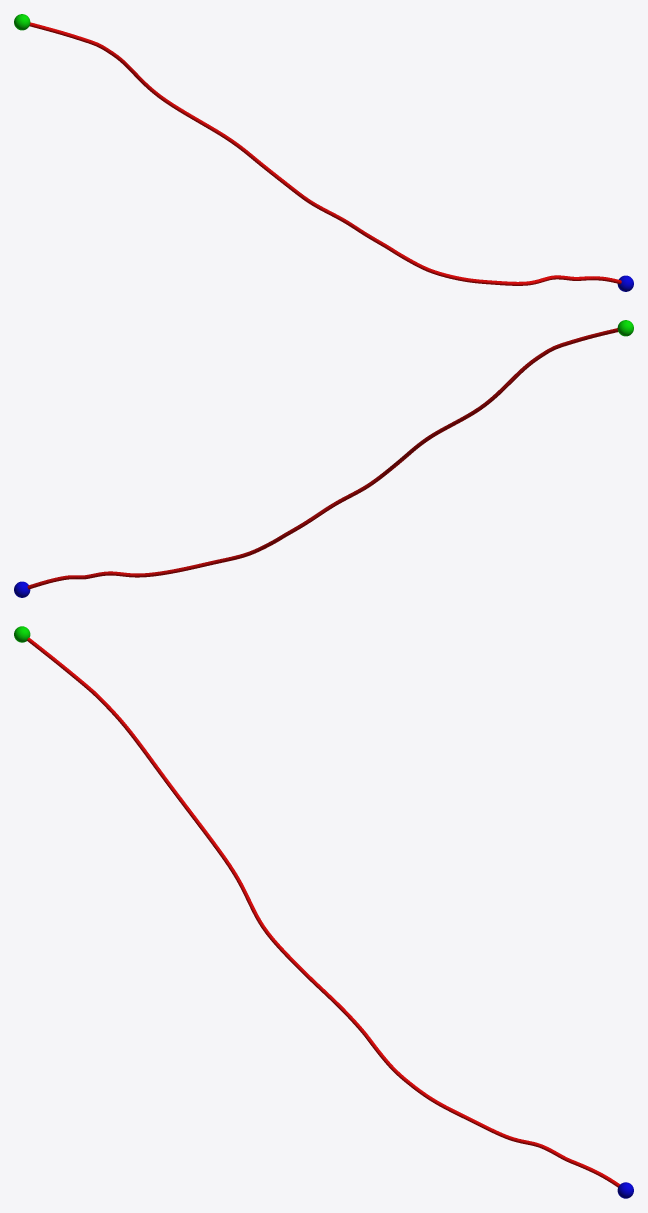
File: paths.obj
3 renders of one model, top to bottom at view 1: azimuth 30°, elevation 25°; view 2: azimuth 150°, elevation 25°; view 3: azimuth 330°, elevation 25°, orthographic.
Bounding box in the file's own units: 1.74 × 1.14 × 0.104.
